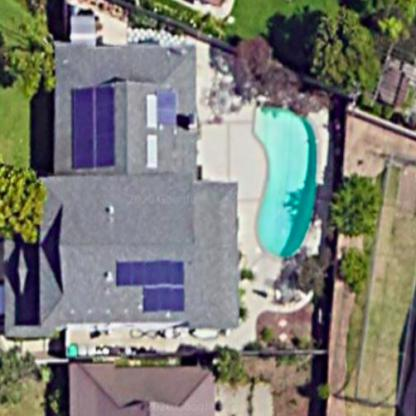solar_panel: (62, 80, 127, 172), (106, 252, 195, 319)
swimming_pool: (240, 81, 323, 264)
